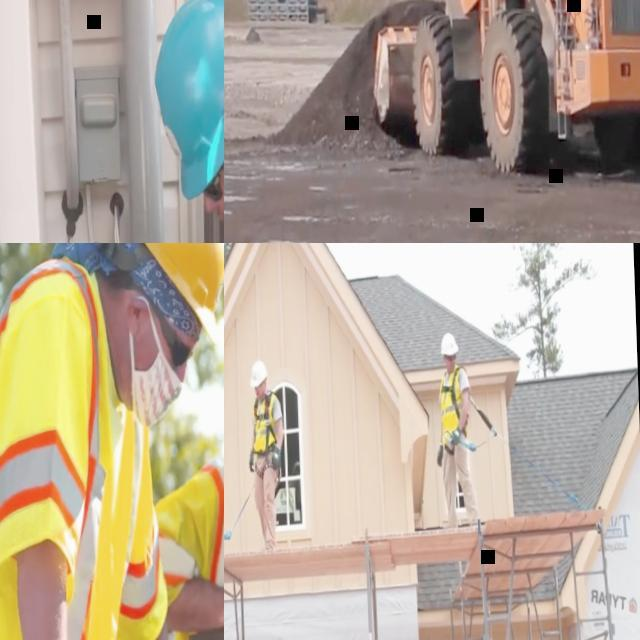helmet: (151, 0, 224, 204), (116, 243, 224, 347), (249, 359, 267, 386), (439, 332, 458, 357)
vest: (0, 253, 169, 640), (155, 445, 224, 620), (439, 364, 469, 444), (252, 391, 278, 451)
